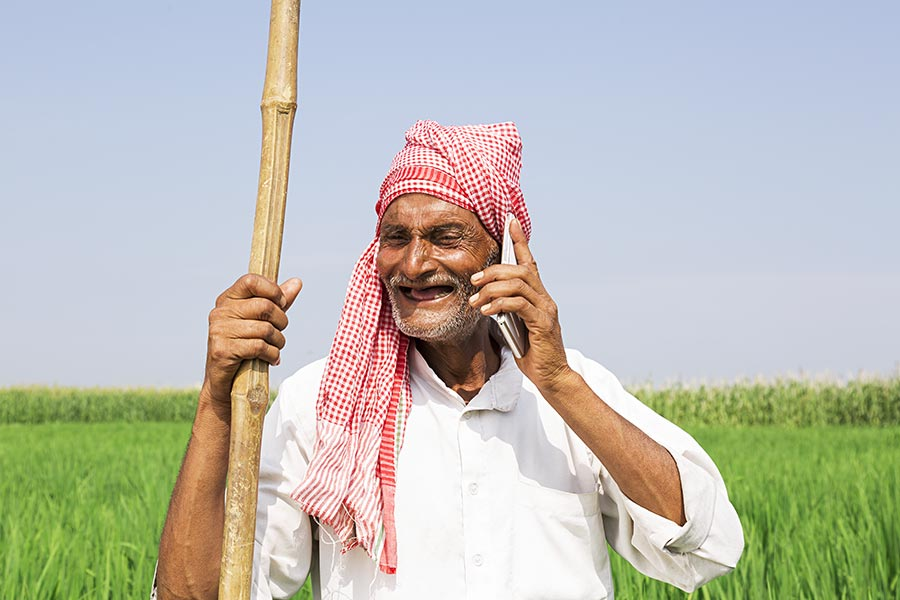human: (142, 102, 746, 600)
